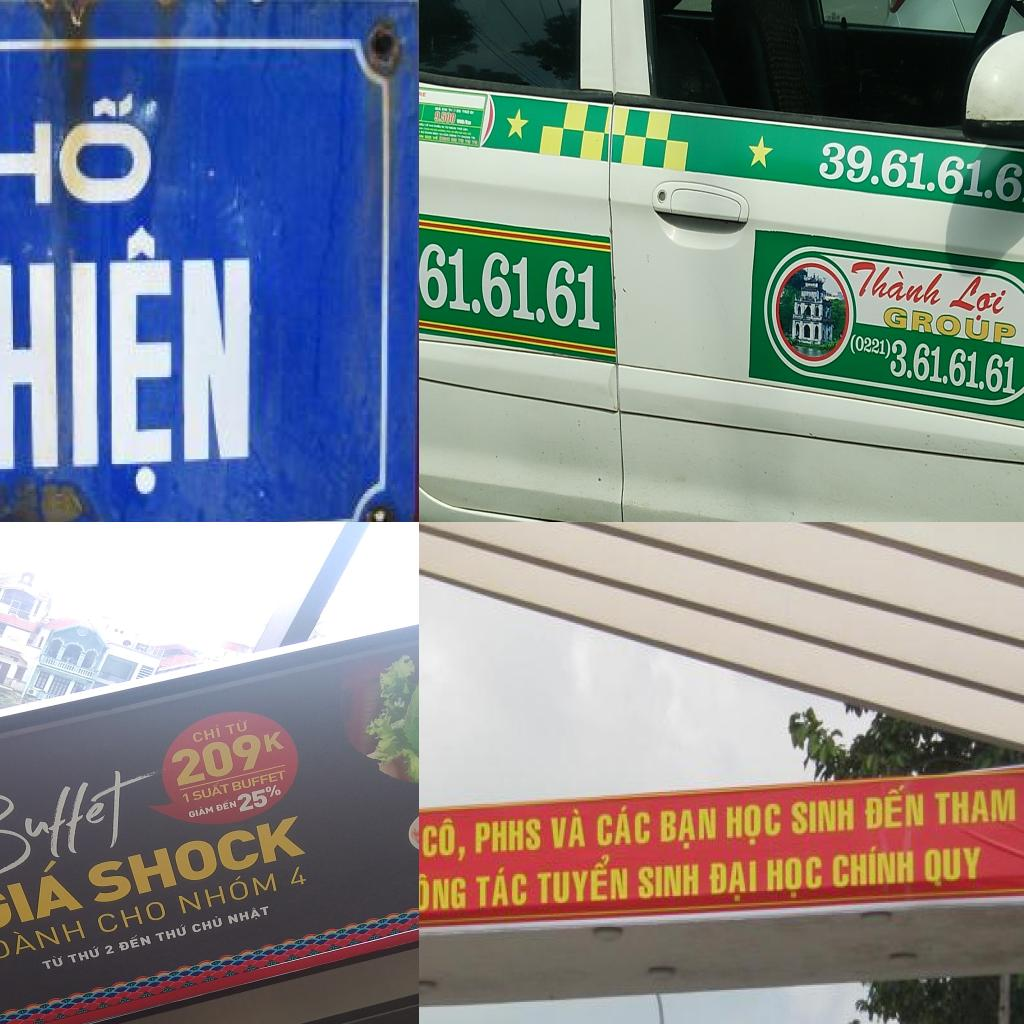text: (0, 81, 163, 222), (0, 759, 168, 893), (80, 814, 310, 906), (419, 230, 602, 334), (813, 136, 1024, 210), (885, 336, 1021, 398), (0, 858, 86, 936), (880, 303, 1018, 347), (168, 731, 266, 788), (846, 258, 952, 310), (533, 852, 631, 906), (177, 866, 279, 915), (831, 842, 918, 892), (932, 782, 1020, 830), (0, 915, 87, 962), (943, 271, 1016, 327), (863, 782, 927, 834), (920, 842, 984, 890), (726, 802, 784, 854), (474, 813, 544, 855), (766, 854, 826, 902), (595, 802, 653, 850), (96, 898, 169, 936), (636, 858, 702, 900), (660, 804, 720, 850), (421, 811, 470, 867), (475, 864, 529, 912), (790, 797, 858, 835), (707, 857, 759, 906), (419, 874, 469, 915), (549, 809, 586, 852), (235, 783, 284, 813), (847, 331, 892, 362), (230, 769, 288, 792), (191, 780, 231, 802), (151, 923, 189, 943), (116, 931, 152, 952), (66, 945, 102, 964), (190, 724, 223, 744), (191, 914, 224, 933), (286, 864, 310, 888), (262, 730, 286, 752), (39, 952, 66, 970), (224, 718, 249, 736), (188, 804, 215, 819), (214, 798, 239, 812), (433, 111, 457, 125), (102, 942, 116, 956), (180, 791, 193, 804), (456, 119, 472, 126), (419, 89, 426, 98), (462, 109, 470, 116), (434, 106, 442, 112), (441, 106, 448, 112)
